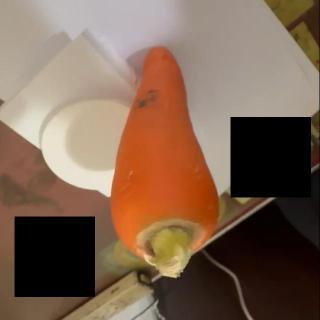carrot: (111, 45, 221, 279)
